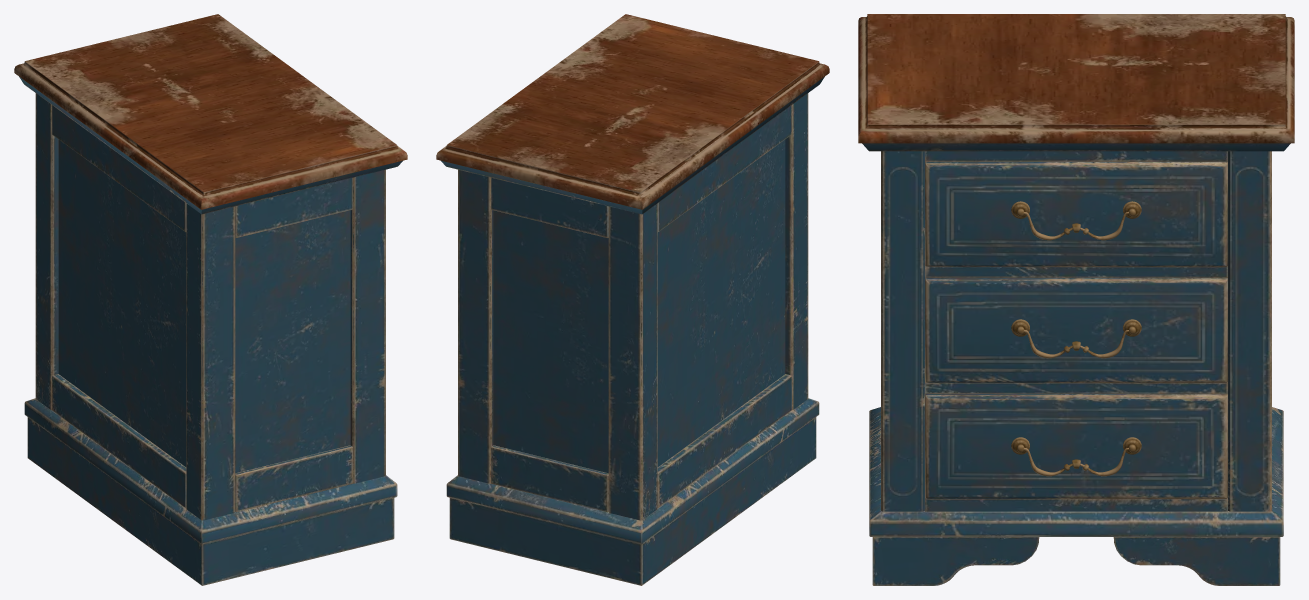
The model's file is dresser_antique_darren_mcnerney.glb.
The picture shows the model from 3 angles, left to right: view 1: azimuth 30°, elevation 25°; view 2: azimuth 150°, elevation 25°; view 3: azimuth 270°, elevation 25°; orthographic projection. The views are drawn at different scales.
Parts seen in each view (by area): view 1: Bottom01_low__0; view 2: Bottom01_low__0; view 3: Bottom01_low__0.
Part boxes in pixels (<box>): Bottom01_low__0: <box>14,14,407,585</box>; Bottom01_low__0: <box>436,14,829,585</box>; Bottom01_low__0: <box>858,14,1294,585</box>.
Size of the model in its own units: 0.7347 by 1.33 by 1.14.
1 material, 1 textured.
